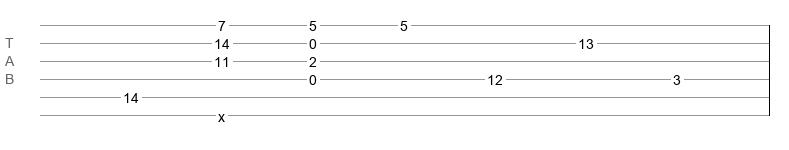0: (309, 72, 317, 82), (309, 36, 317, 46)
11: (214, 54, 230, 64)
12: (487, 72, 503, 82)
13: (578, 36, 594, 46)
14: (123, 90, 139, 100), (214, 36, 230, 46)
2: (309, 54, 317, 64)
3: (673, 72, 681, 82)
5: (309, 18, 317, 28), (400, 18, 408, 28)
7: (218, 18, 226, 28)
x: (218, 109, 225, 117)
